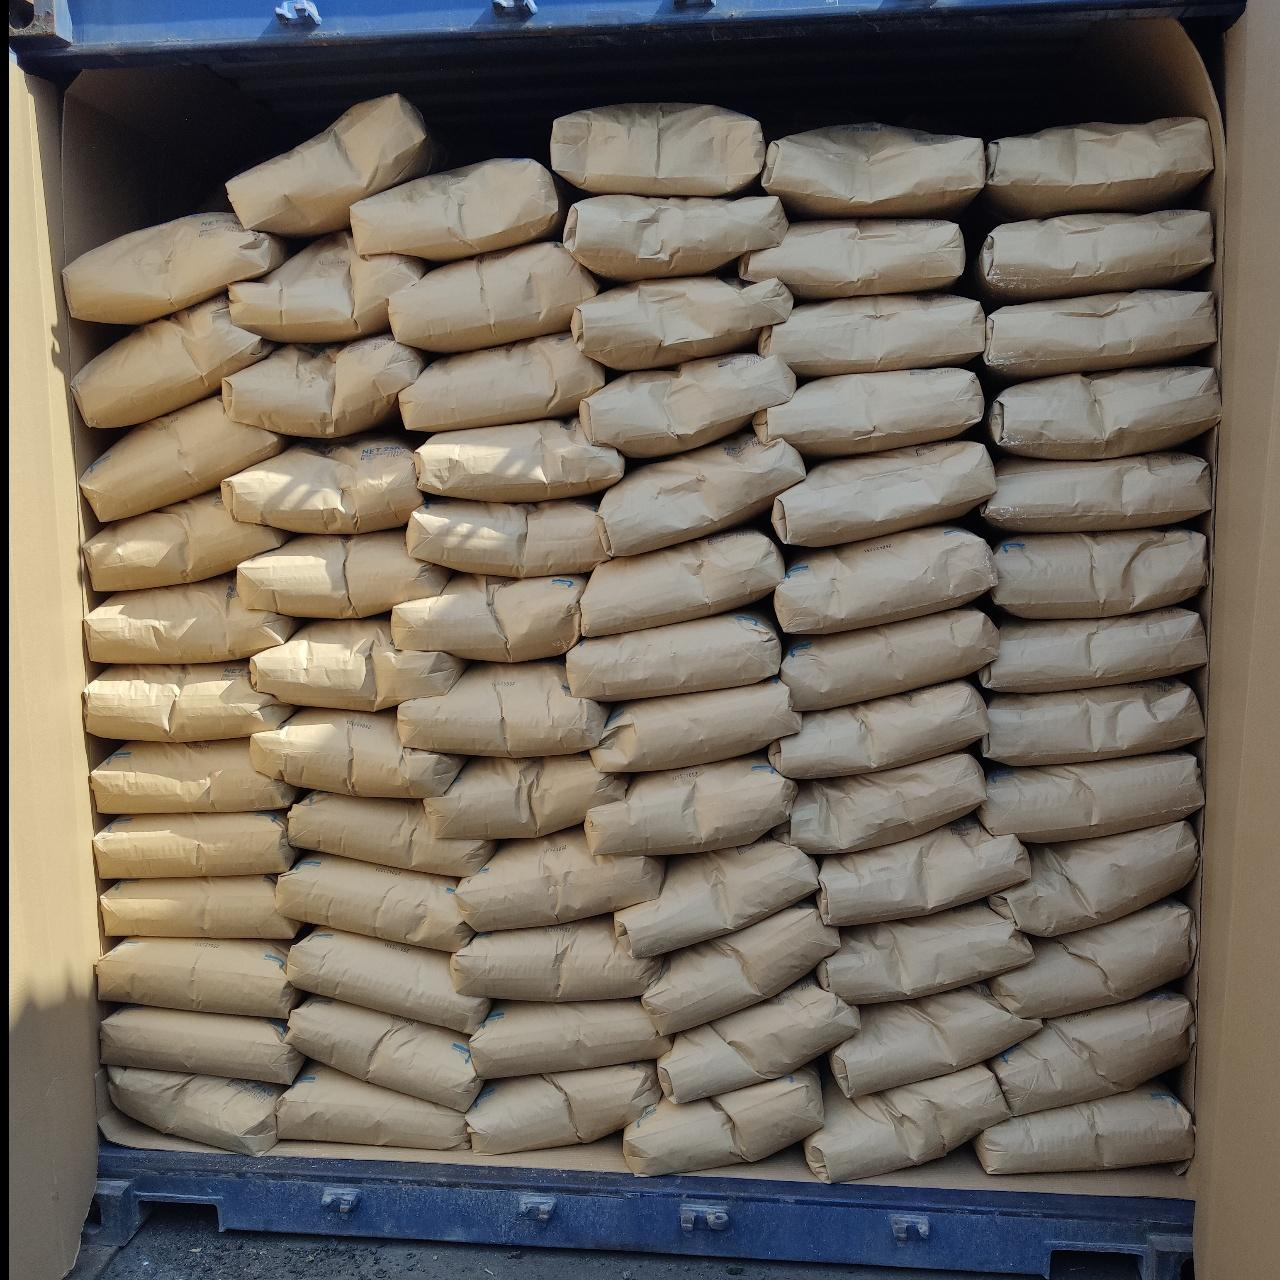sack: (227, 93, 431, 234), (72, 294, 273, 427), (641, 899, 839, 1034), (82, 395, 290, 520), (600, 430, 804, 554), (989, 990, 1193, 1115), (658, 976, 859, 1102), (985, 899, 1196, 1017), (62, 213, 287, 324), (804, 1063, 1010, 1182), (615, 838, 818, 958), (830, 983, 1041, 1097), (990, 821, 1197, 937), (774, 526, 998, 633), (772, 440, 993, 547), (388, 241, 599, 352), (985, 117, 1212, 219), (817, 817, 1029, 926), (580, 353, 795, 458), (779, 607, 999, 710), (817, 901, 1033, 1005), (580, 527, 784, 635), (229, 231, 425, 342), (456, 826, 663, 932), (287, 998, 481, 1110), (624, 1065, 823, 1175), (975, 210, 1212, 301), (350, 159, 563, 261), (286, 927, 489, 1033), (223, 333, 425, 438), (584, 754, 796, 855), (989, 367, 1220, 459), (761, 123, 986, 217), (571, 275, 792, 370), (778, 753, 983, 855), (769, 681, 980, 779), (976, 751, 1203, 843), (983, 290, 1216, 379), (83, 490, 290, 590), (973, 1082, 1193, 1175), (753, 369, 983, 457), (399, 334, 604, 433), (399, 661, 608, 757), (990, 527, 1207, 619), (591, 678, 799, 772), (251, 618, 463, 710), (551, 103, 764, 195), (981, 678, 1203, 765), (564, 195, 787, 281), (979, 607, 1207, 692), (275, 855, 474, 952), (84, 573, 298, 663), (566, 610, 779, 700), (222, 438, 422, 532), (237, 530, 449, 618), (251, 709, 462, 797), (981, 452, 1208, 532), (464, 1061, 658, 1153), (451, 915, 660, 1001), (760, 295, 983, 375), (415, 417, 624, 502), (740, 220, 964, 299), (425, 754, 628, 839), (392, 574, 588, 662), (288, 791, 492, 874), (275, 1061, 468, 1148), (83, 662, 292, 742), (97, 938, 299, 1017), (470, 999, 669, 1078), (406, 499, 608, 577), (101, 1007, 301, 1084), (108, 1067, 282, 1155), (91, 738, 295, 813), (91, 811, 297, 878), (101, 877, 301, 938)
